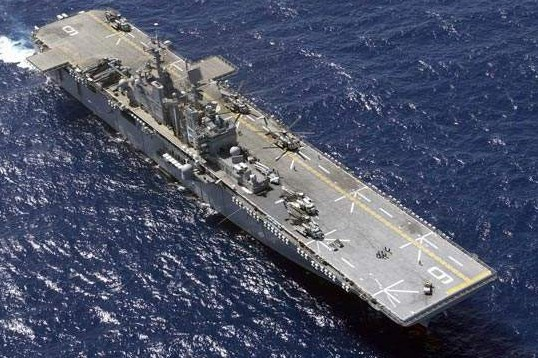warship: (28, 8, 504, 328)
